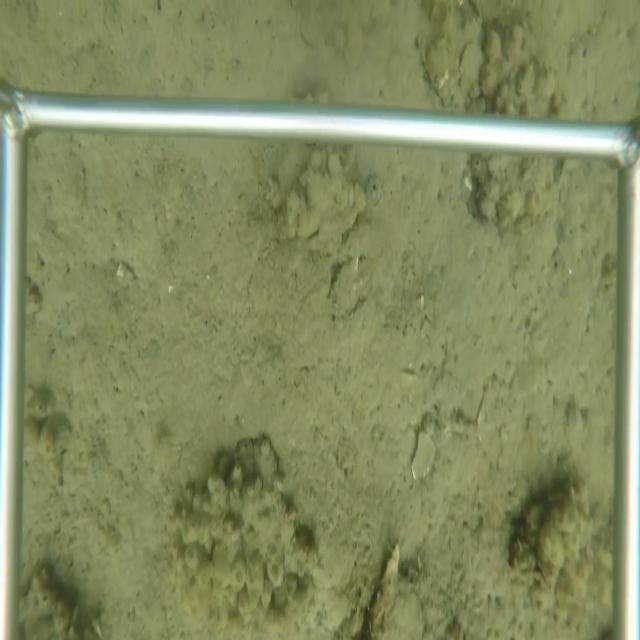Oyster-Indeterminate: (419, 3, 486, 110), (326, 250, 363, 317)
